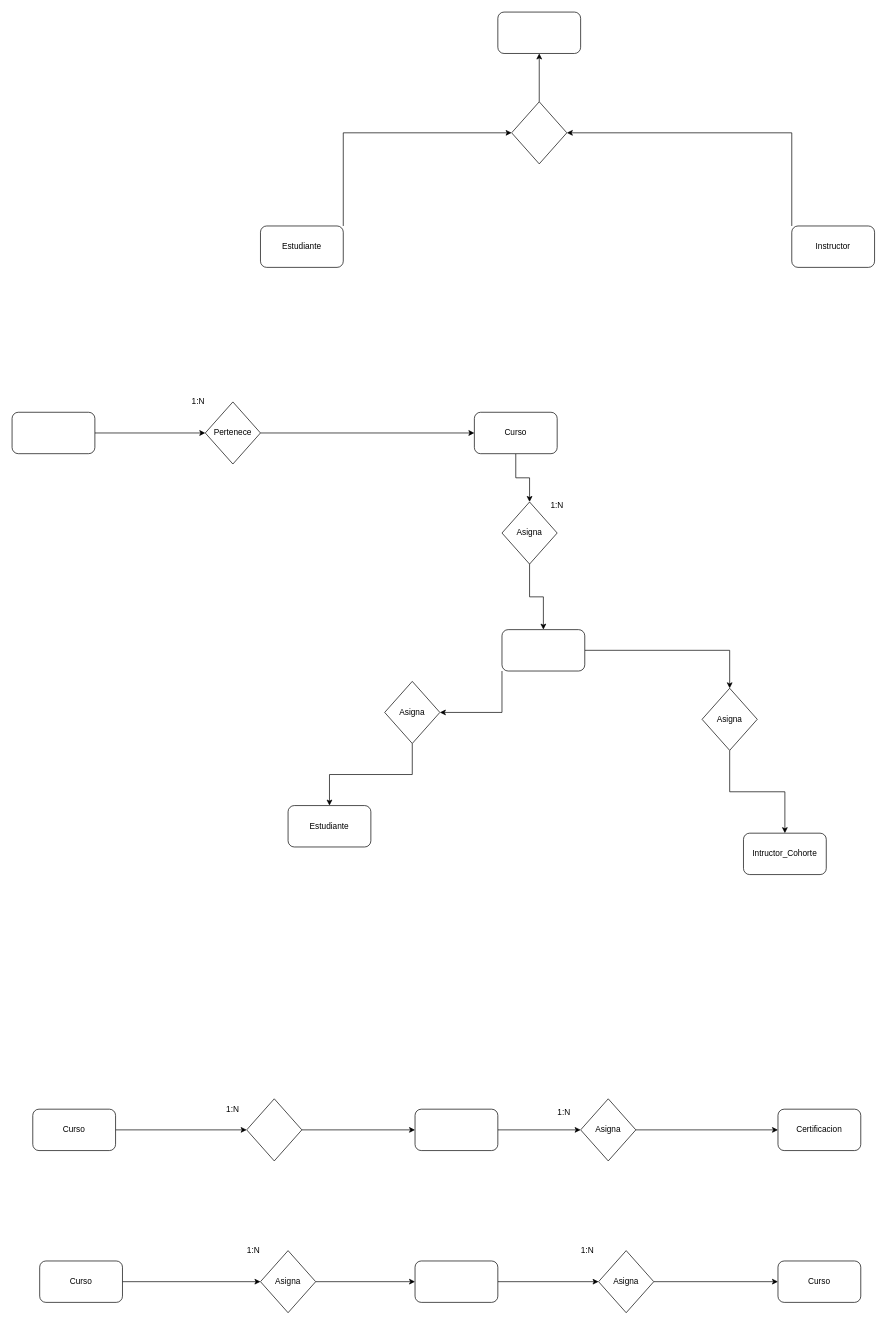
This 887x1325 diagram has some shape labels left out. The box of each missing label's shape, as (x1, y1, x2, y2) in pixels:
Area_Conocimiento: (11, 412, 95, 454)
Certificacion_Curso: (414, 1108, 498, 1151)
Cohorte: (501, 629, 585, 671)
Curso_Prerequisitos: (414, 1260, 498, 1302)
Imparte: (246, 1098, 302, 1161)
Persona: (497, 11, 581, 53)
